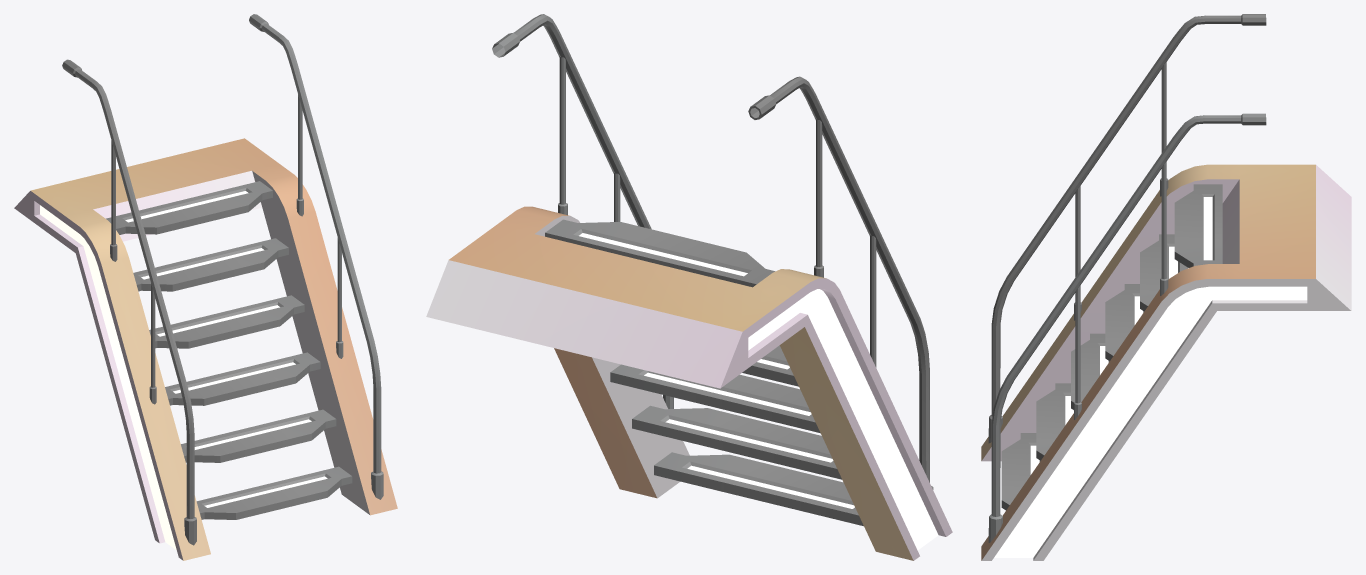
File: Stairs_Out.fbx
The picture shows the model from 3 angles, left to right: view 1: azimuth 30°, elevation 25°; view 2: azimuth 150°, elevation 25°; view 3: azimuth 270°, elevation 25°; orthographic projection. The views are drawn at different scales.
Parts seen in each view (by area): view 1: Stairs_Out; view 2: Stairs_Out; view 3: Stairs_Out.
Boxes of the visible parts, left/top/right/bottom form: Stairs_Out: left=14, top=14, right=397, bottom=560; Stairs_Out: left=426, top=14, right=952, bottom=560; Stairs_Out: left=981, top=14, right=1351, bottom=560.
Size of the model in its own units: 152 by 273 by 208.
